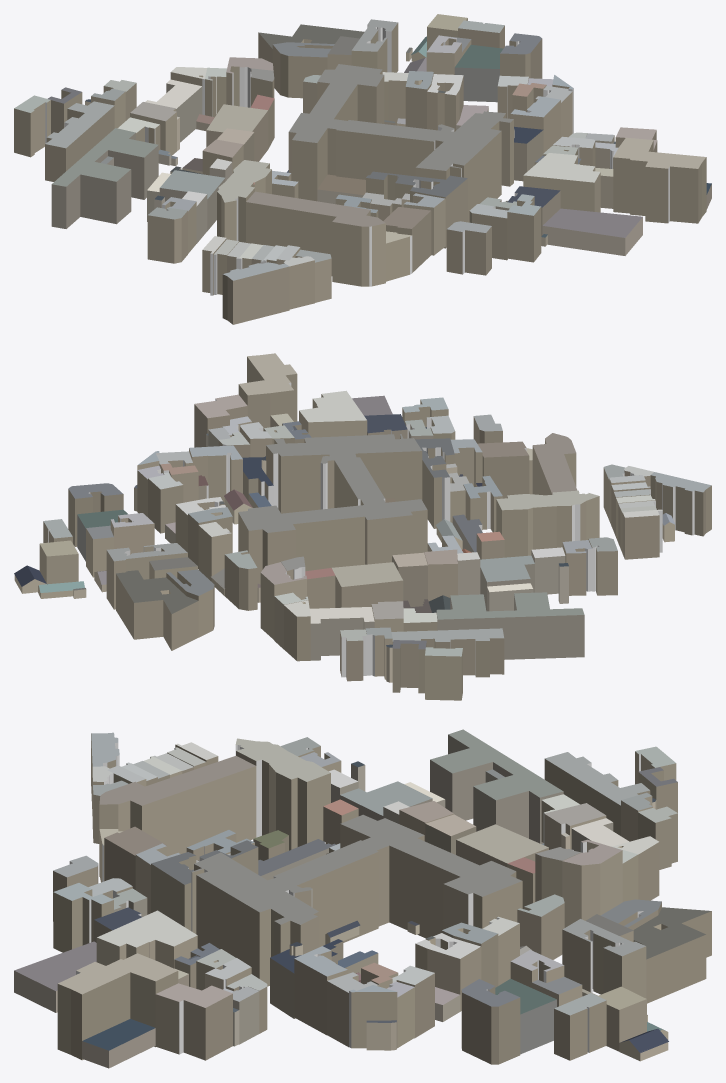
The picture shows the model from 3 angles, top to bottom: view 1: azimuth 30°, elevation 25°; view 2: azimuth 150°, elevation 25°; view 3: azimuth 270°, elevation 25°; orthographic projection. The views are drawn at different scales.
Visible parts, largest first — view 1: tuile; view 2: tuile; view 3: tuile.
Part boxes in pixels (box(x1,y1,x2,y2)): tuile: box(14, 14, 711, 324); tuile: box(14, 353, 711, 700); tuile: box(14, 729, 711, 1068).
Bounding box in the file's own units: 293 × 40.69 × 287.
